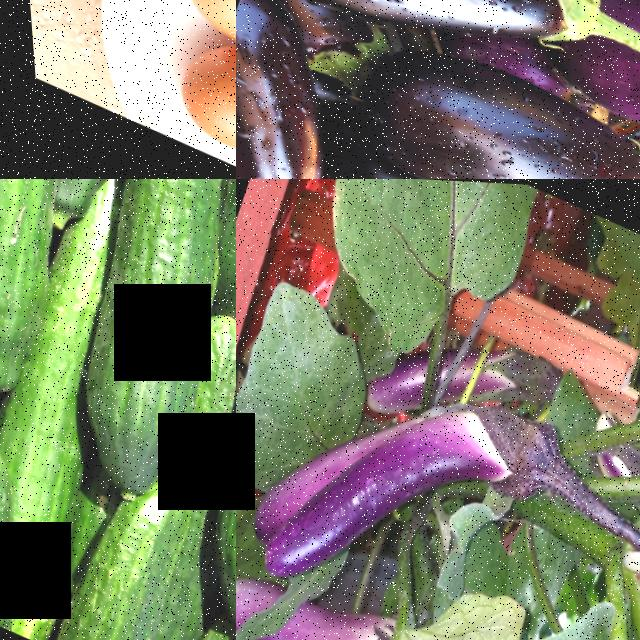cucumber: (0, 179, 236, 503), (139, 179, 236, 627), (27, 464, 208, 640), (0, 179, 122, 398), (0, 426, 50, 625)
egg_: (155, 18, 236, 171), (158, 0, 236, 65)
eggplant: (239, 332, 576, 640), (337, 14, 640, 179), (248, 0, 611, 90), (236, 0, 380, 179), (236, 557, 389, 640)
